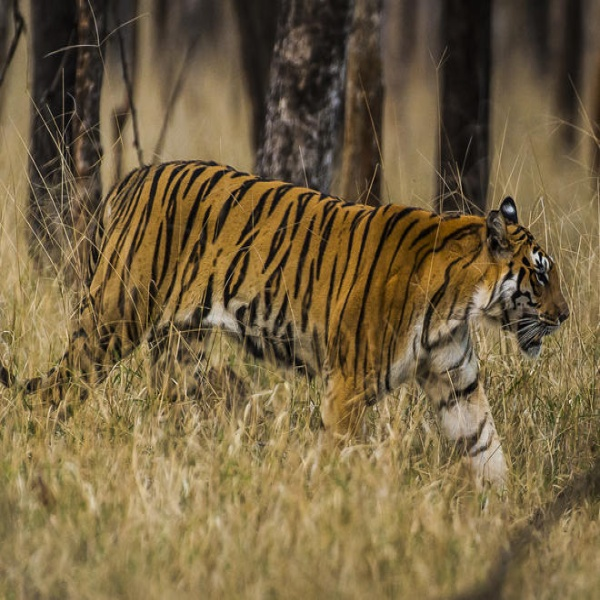Tiger: (2, 153, 576, 506)
